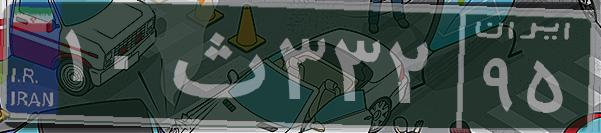0: (110, 28, 158, 105)
1: (57, 26, 110, 107)
2: (385, 28, 445, 110)
3: (273, 28, 330, 110), (330, 28, 385, 110)
5: (525, 38, 570, 115)
9: (475, 38, 525, 113)
ث: (158, 15, 273, 115)
